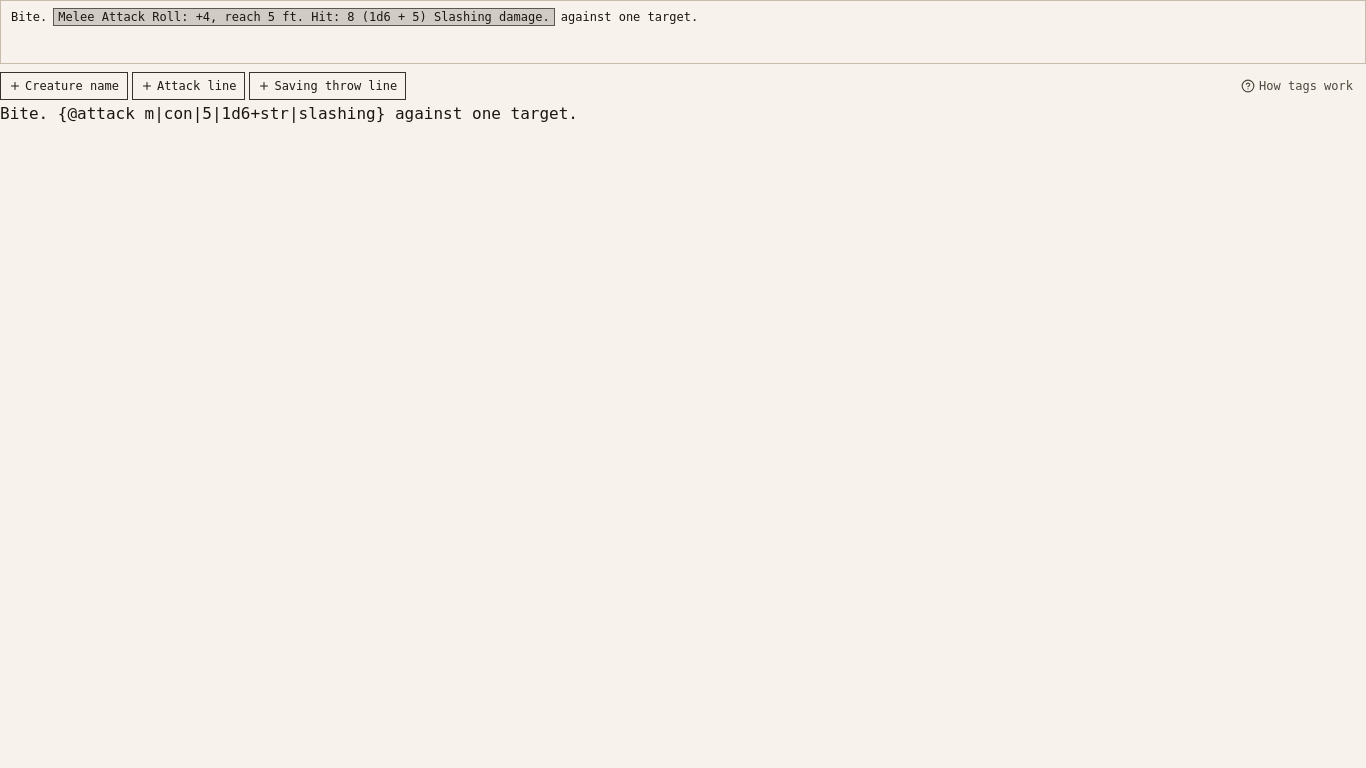
Test: MarkupField (CodeMirror) › splices dialog field edits back into the markup on save
Step 1. Press the mouse on the text with class "mb-chip" → (304, 17), box [54,9,554,25]
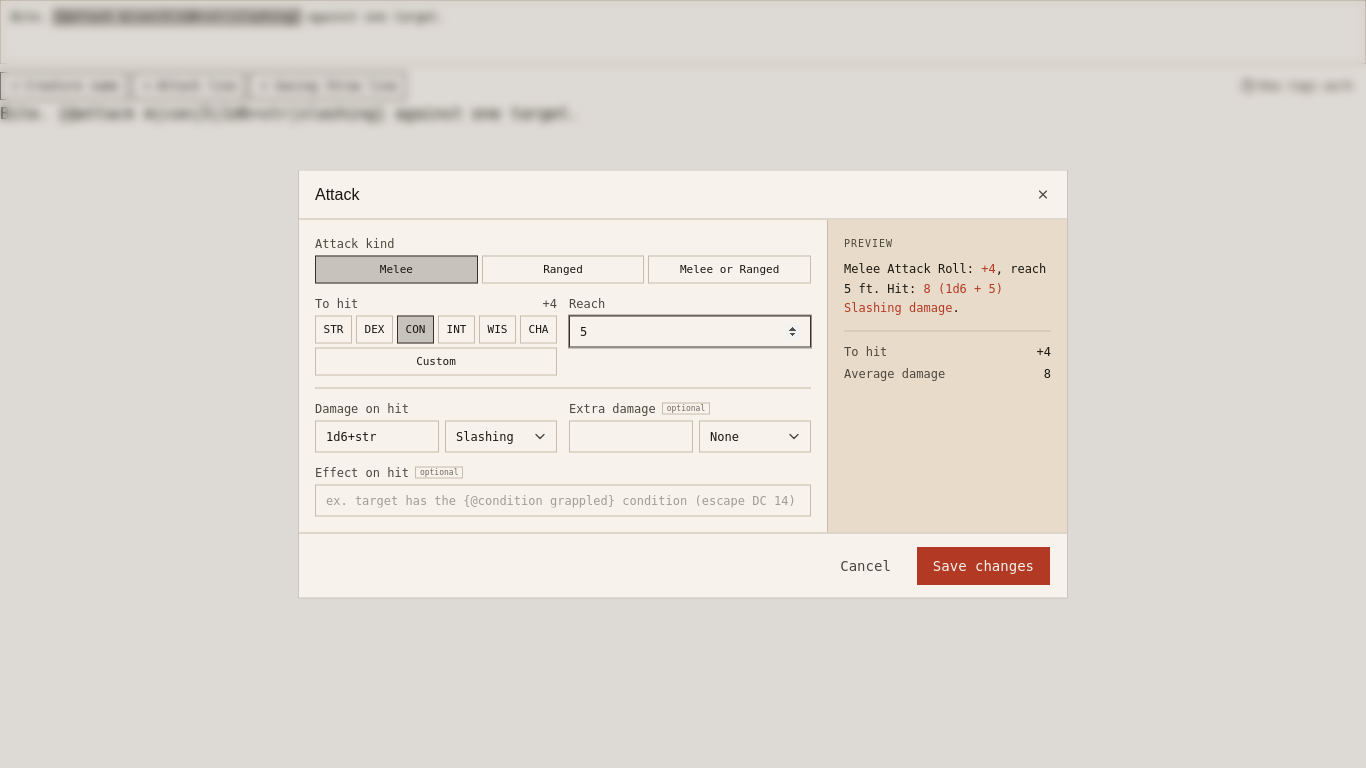
Now the field named "Damage dice" holds "1d6+str"
Step 2. Replace the text in the field named "Damage dice" with "2d8+str" → (377, 436), box [315,420,439,452]
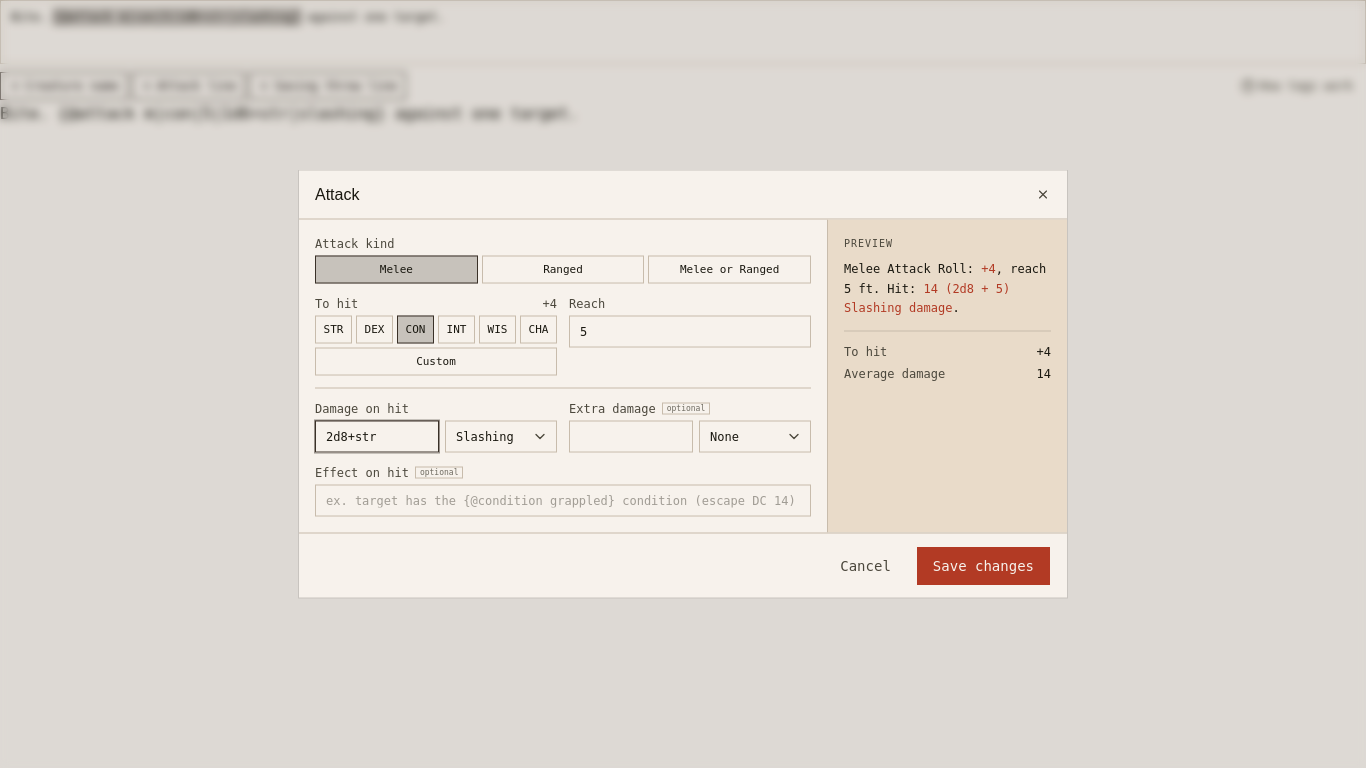
Now the text box labelled "Bite. {@attack m|con|5|1d6+str|slashing} against one target." is shown, box [11,10,444,24]
Step 3. Click the button "Save changes" → (983, 566), box [916,546,1051,586]
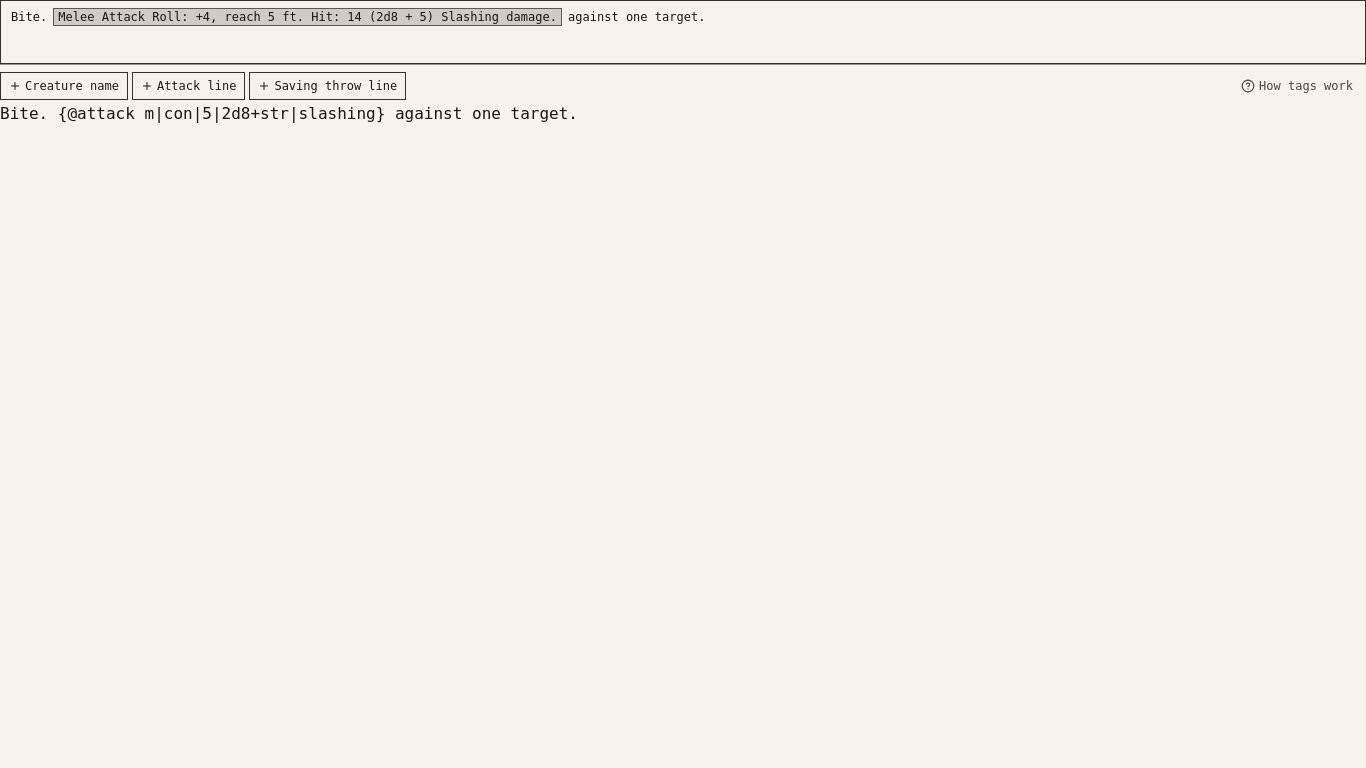
Now the text with test id "value" reads "Bite. {@attack m|con|5|2d8+str|slashing} against one target.", box [0,104,578,123]
